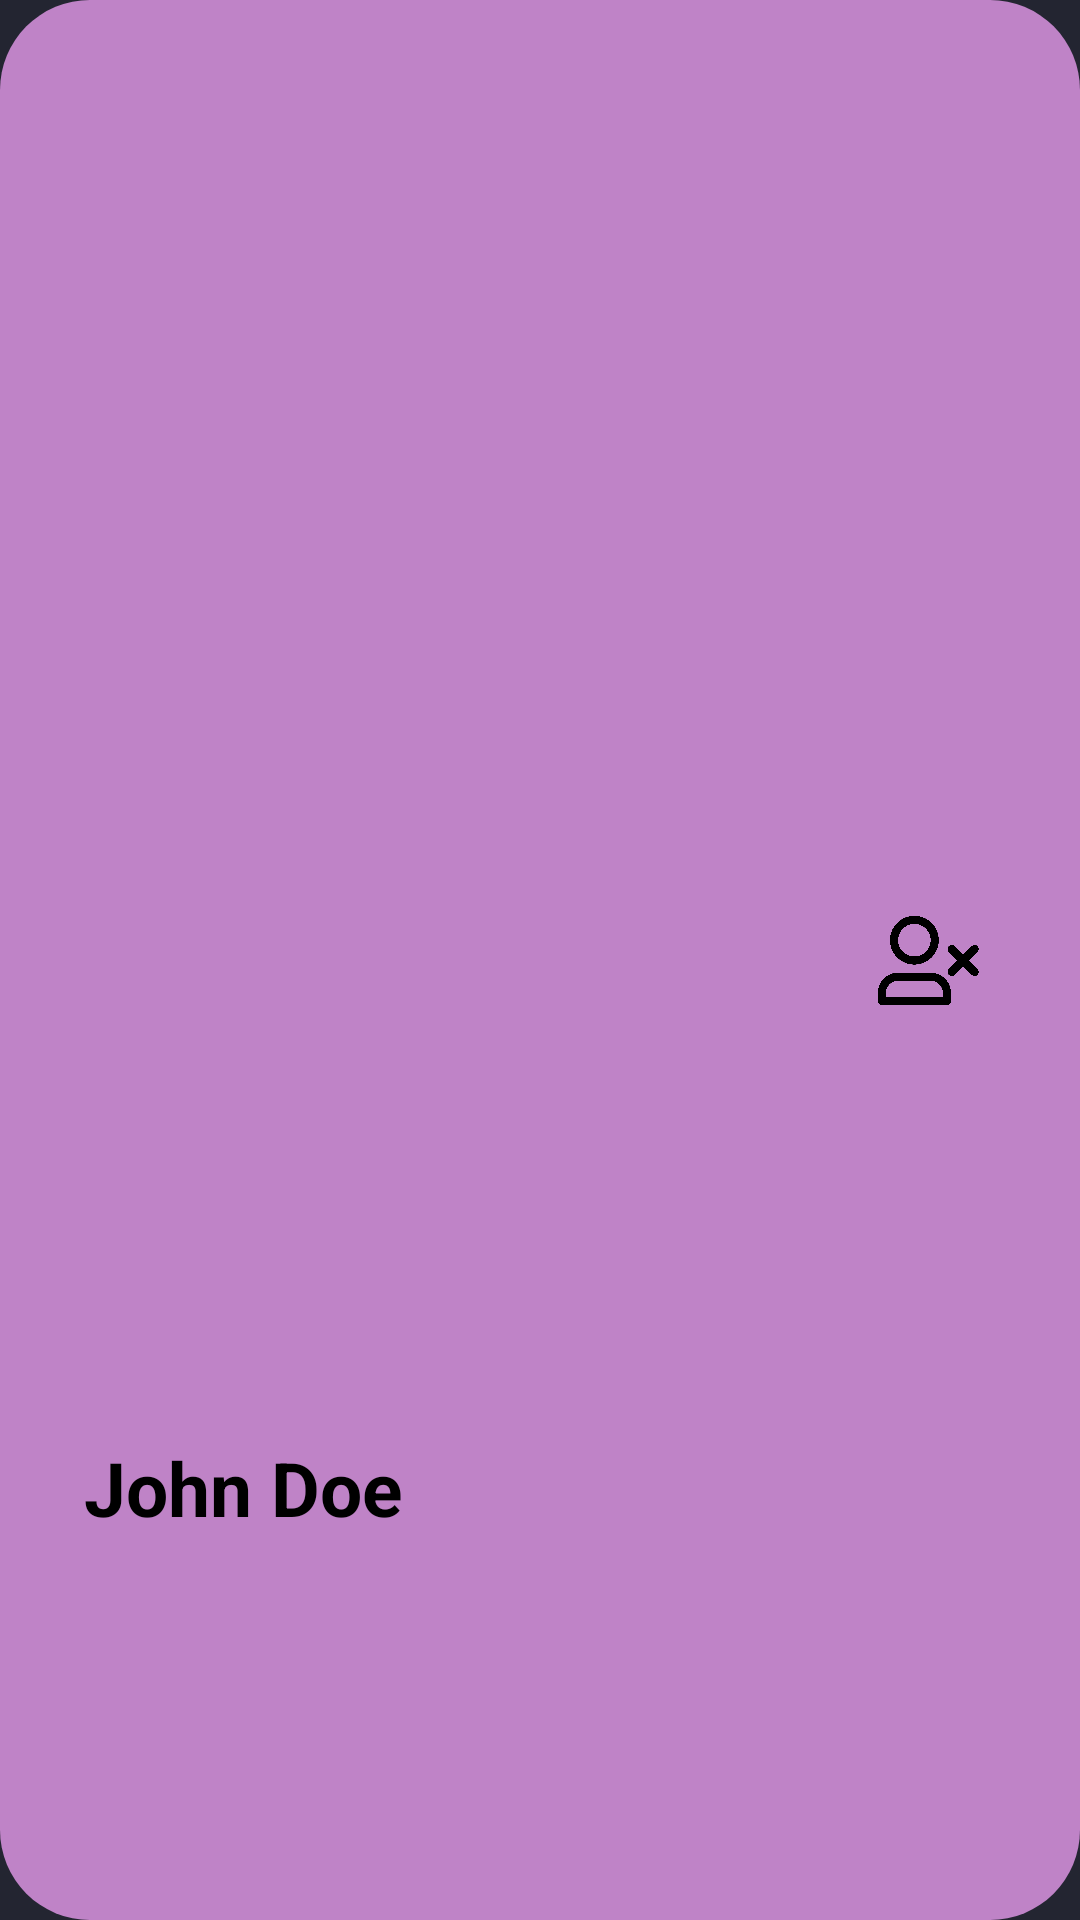

Screen size 1080w x 1920h. Icon name, then its center in pixels as (x=x, y=y):
remove user: (x=928, y=960)
